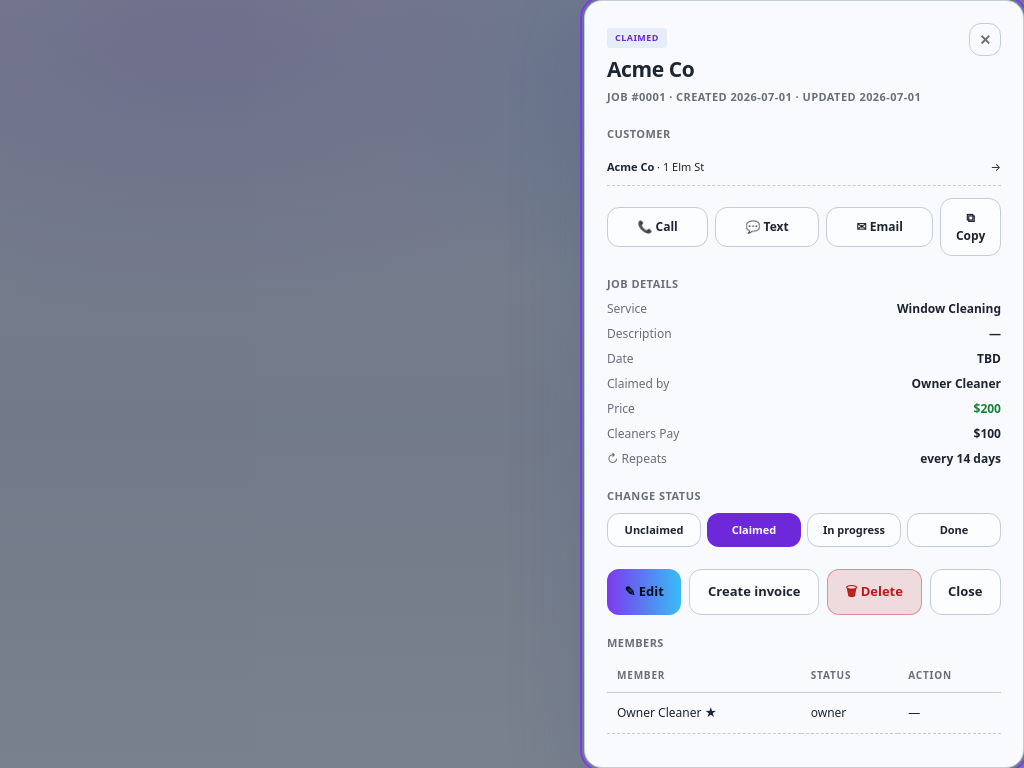
Scenario: JobDrawer members table + join requests › (e3) the edit form recur_days input round-trips job.recur_days as its defaultValue
Click the button "✎ Edit". click: click(644, 592)
box: x1=607 y1=569 x2=682 y2=614
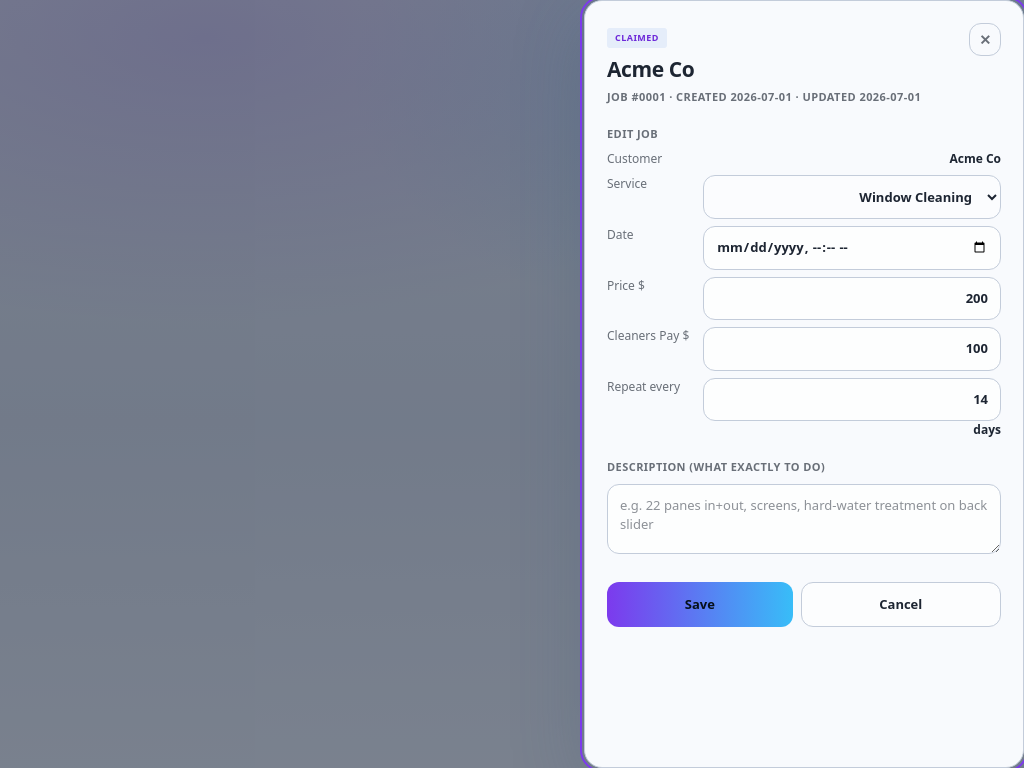
Result: the 3rd number field named "recur_days" is shown at x1=703 y1=378 x2=1001 y2=421
